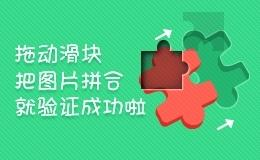target: (120, 31, 162, 70)
